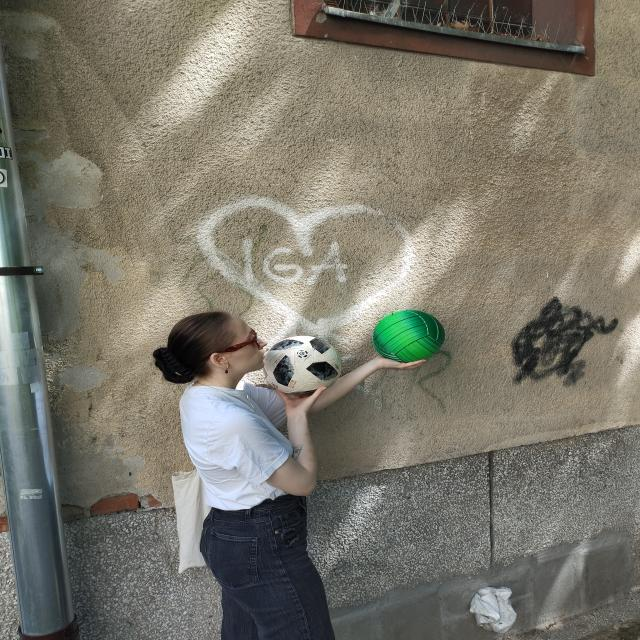nozna: (262, 336, 342, 394)
zielona: (372, 310, 445, 364)
